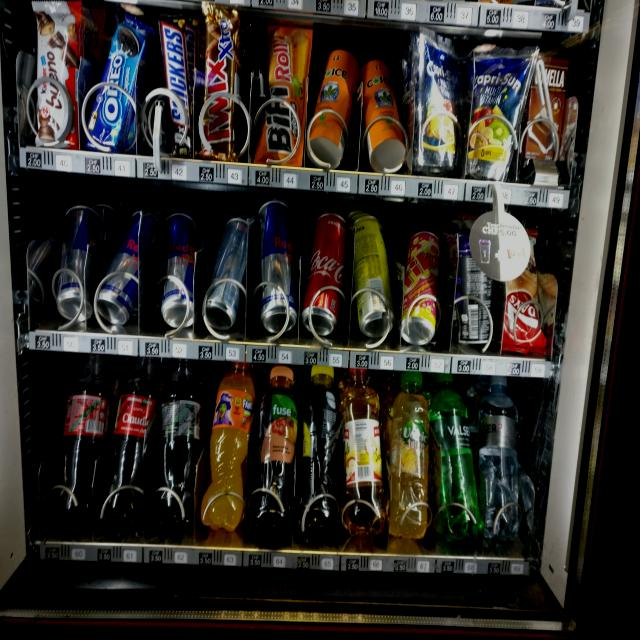7days_croissantschoko_packung_80_1_0000000000003: (504, 226, 550, 352)
bifi_roll__50__4251097402635: (256, 21, 311, 168)
bueno___43__4008400320328: (33, 3, 86, 153)
c-swiss_dosenabisicetea__33__9120025930135: (312, 44, 361, 168), (361, 56, 408, 176)
caferoyal_classicmacchiato__33__7617014164487: (456, 228, 498, 350)
caprisun_multivitamin__20__4000177605004: (469, 40, 529, 194), (417, 26, 466, 170)
coke__dose_33__54491472: (304, 212, 348, 338)
coke__flasche_50__54491472: (51, 354, 110, 536), (107, 357, 161, 532)
coke_zero_flasche_50__5449000131836: (158, 360, 203, 526)
comella_schokodrink__33__7613100037253: (530, 54, 567, 168)
fanta___50__40822938: (203, 358, 255, 538)
fuse_lemon__50__5449000235947: (300, 361, 342, 537)
fuse_lemon_dose_33__5449000235947: (353, 212, 394, 336)
fuse_peach__50__5449000236623: (254, 365, 295, 539)
oreo___66__84100733: (88, 15, 146, 150)
ramseier_schorle__50__7610057012456: (340, 366, 389, 538)
redbull___33__90162909: (254, 193, 302, 338), (100, 210, 149, 333), (159, 210, 200, 336), (59, 206, 98, 322)
redbull_light__33__90162800: (203, 216, 251, 334)
snickers___50__5000159461122: (153, 8, 196, 156)
tiki_himbeerbrause_dose_33_1_: (404, 230, 439, 341)
twix___50__5000159459228: (198, 2, 240, 168)
valser_classic__50__76404160: (431, 371, 482, 542)
valser_still__50__7610335002575: (479, 375, 523, 546)
volvic_pinapple__50__305764335648: (386, 369, 433, 544)
